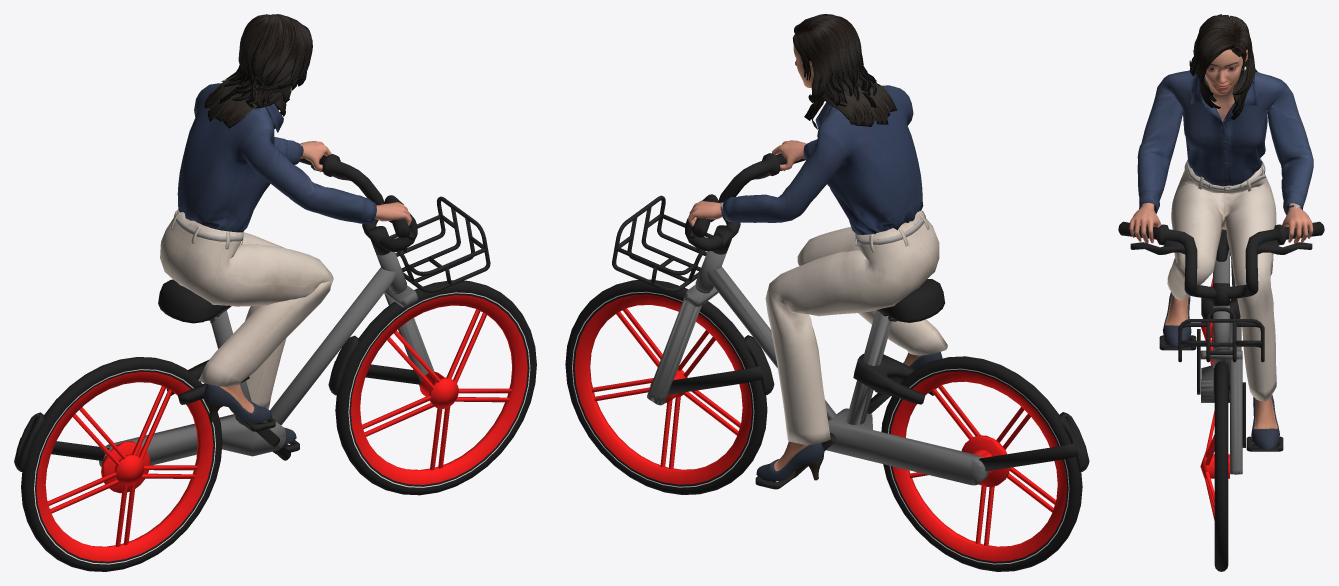
File: sm_bike_redwheel.fbx
3 renders of one model, left to right at view 1: azimuth 30°, elevation 25°; view 2: azimuth 150°, elevation 25°; view 3: azimuth 270°, elevation 25°, orthographic. The views are drawn at different scales.
Parts seen in each view (by area): view 1: sm_bike_redwheel; view 2: sm_bike_redwheel; view 3: sm_bike_redwheel.
Part boxes in pixels (left/top/right/bottom): sm_bike_redwheel: left=14, top=14, right=536, bottom=571; sm_bike_redwheel: left=565, top=14, right=1089, bottom=571; sm_bike_redwheel: left=1118, top=14, right=1324, bottom=571.
Size of the model in its own units: 1.89 by 1.79 by 0.7082.
